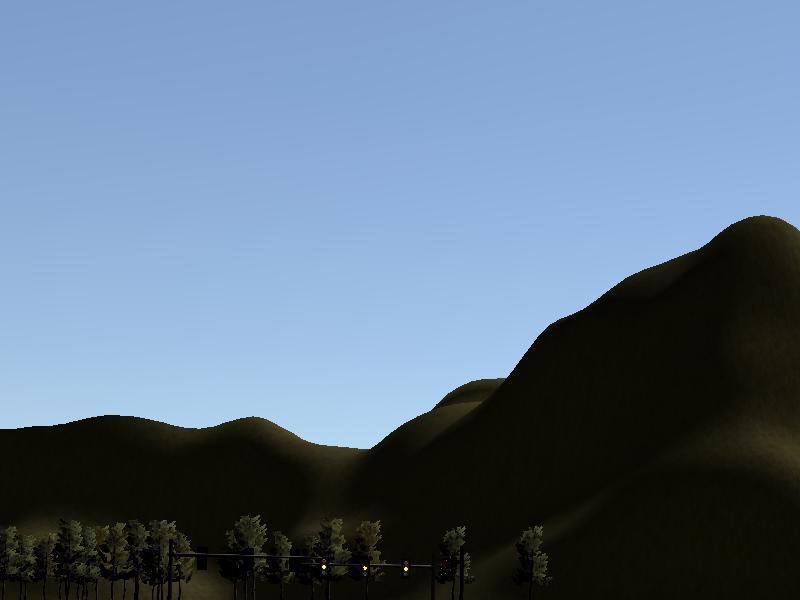Yellow: (359, 556, 371, 579), (319, 554, 330, 578), (401, 557, 411, 579)
